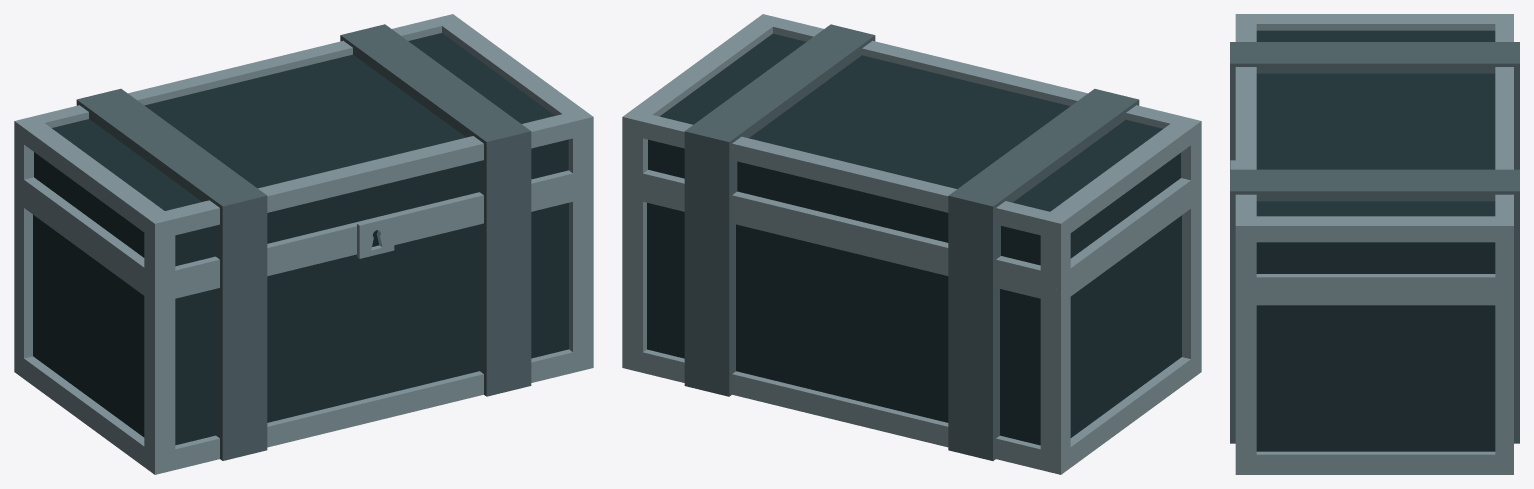
Rendered from Cofre-Raro.fbx.
3 renders of one model, left to right at view 1: azimuth 30°, elevation 25°; view 2: azimuth 150°, elevation 25°; view 3: azimuth 270°, elevation 25°, orthographic.
Visible parts, largest first — view 1: Cube.002, Cube.001; view 2: Cube.002, Cube.001; view 3: Cube.001, Cube.002.
Boxes of the visible parts, box(x1,y1,x2,y2) form: Cube.002: box(14, 183, 593, 474); Cube.001: box(14, 14, 593, 289); Cube.002: box(622, 183, 1201, 474); Cube.001: box(622, 14, 1201, 289); Cube.001: box(1230, 14, 1519, 291); Cube.002: box(1230, 132, 1519, 474).
Bounding box in the file's own units: 2.26 × 1.25 × 1.3.
